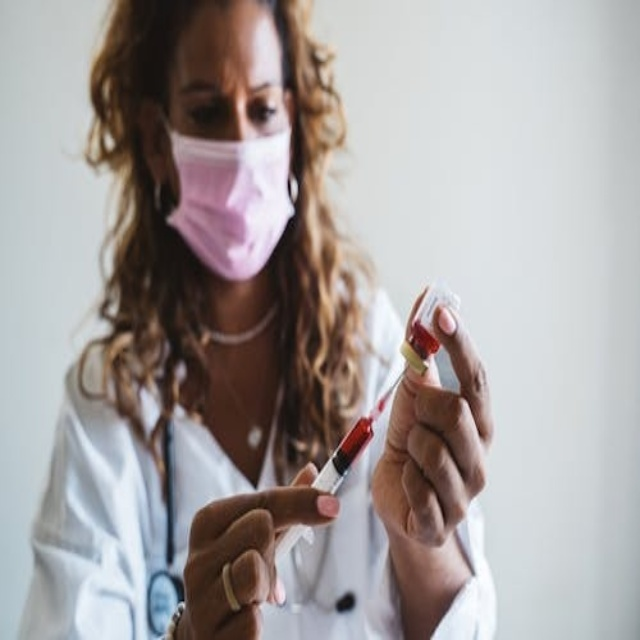Mascara: (158, 110, 297, 281)
Sin_gafas: (174, 77, 288, 129)
Sin_guantes: (380, 290, 506, 555), (175, 473, 341, 640)
